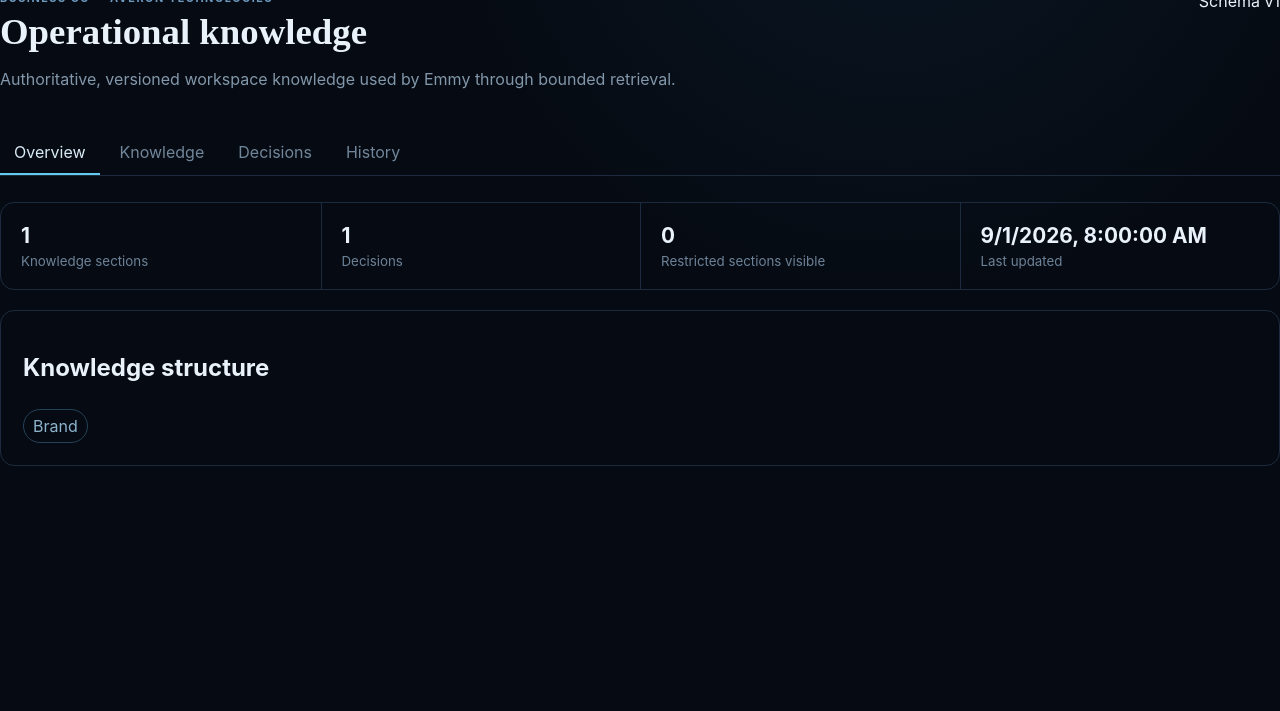
Test case: Business OS Control Center › uses the existing human update endpoint only for authorized managers
The width and height of the screenshot is (1280, 711).
expect the heading "Operational knowledge" is shown: met, box [0,11,367,52]
Click the button "knowledge". click: [162, 153]
box: [106,131,218,175]
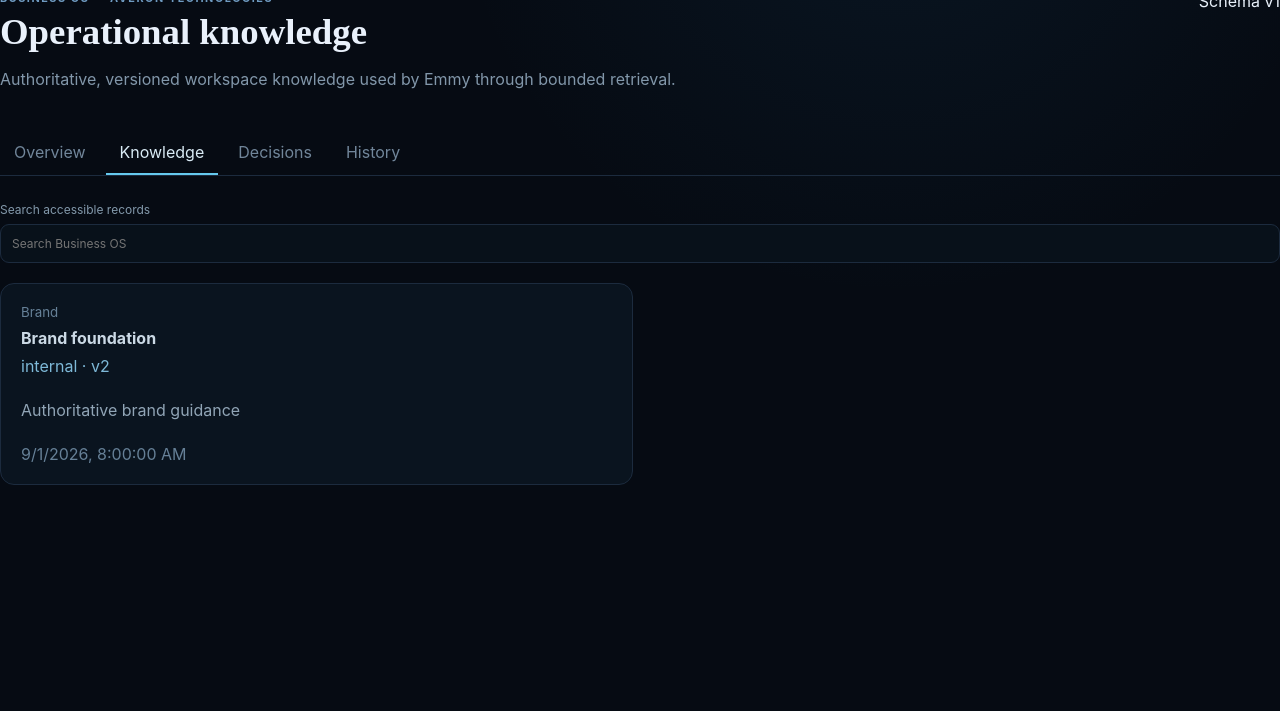
Click the button "Brand foundation". click: [40, 312]
box: [0,283,633,485]
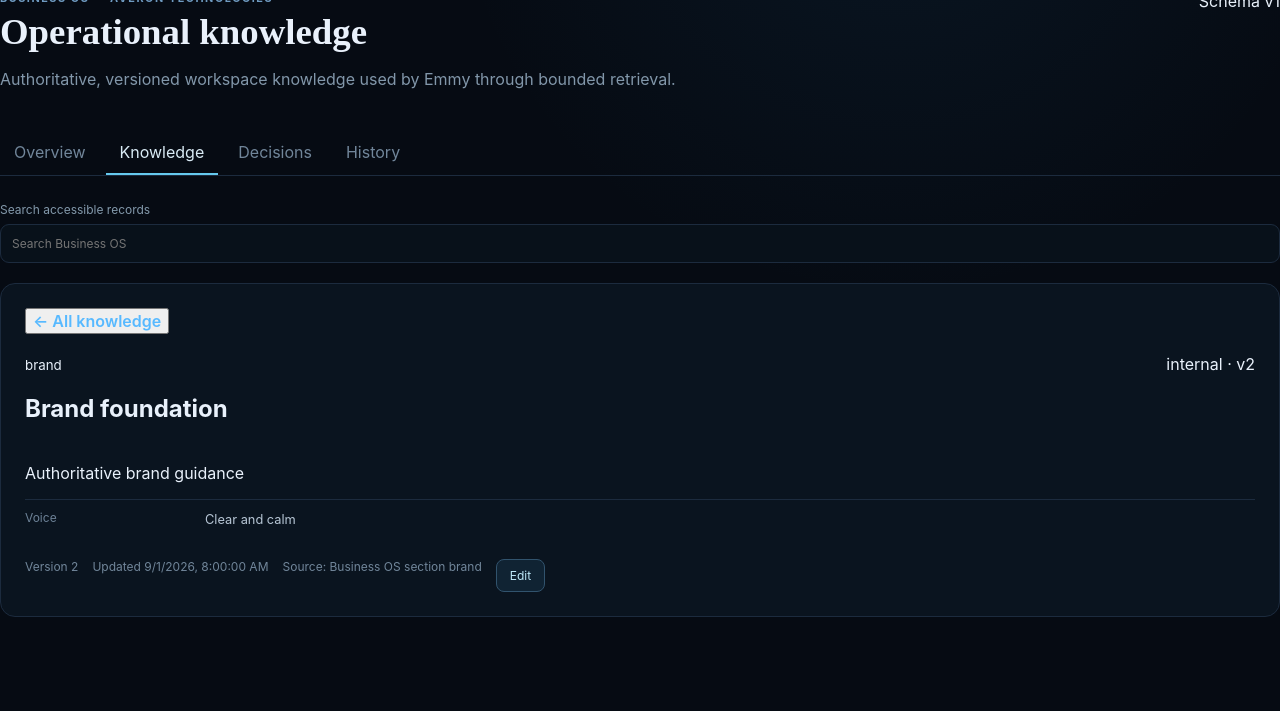
Click the button "Edit". click: [520, 576]
box: [496,559,545,592]
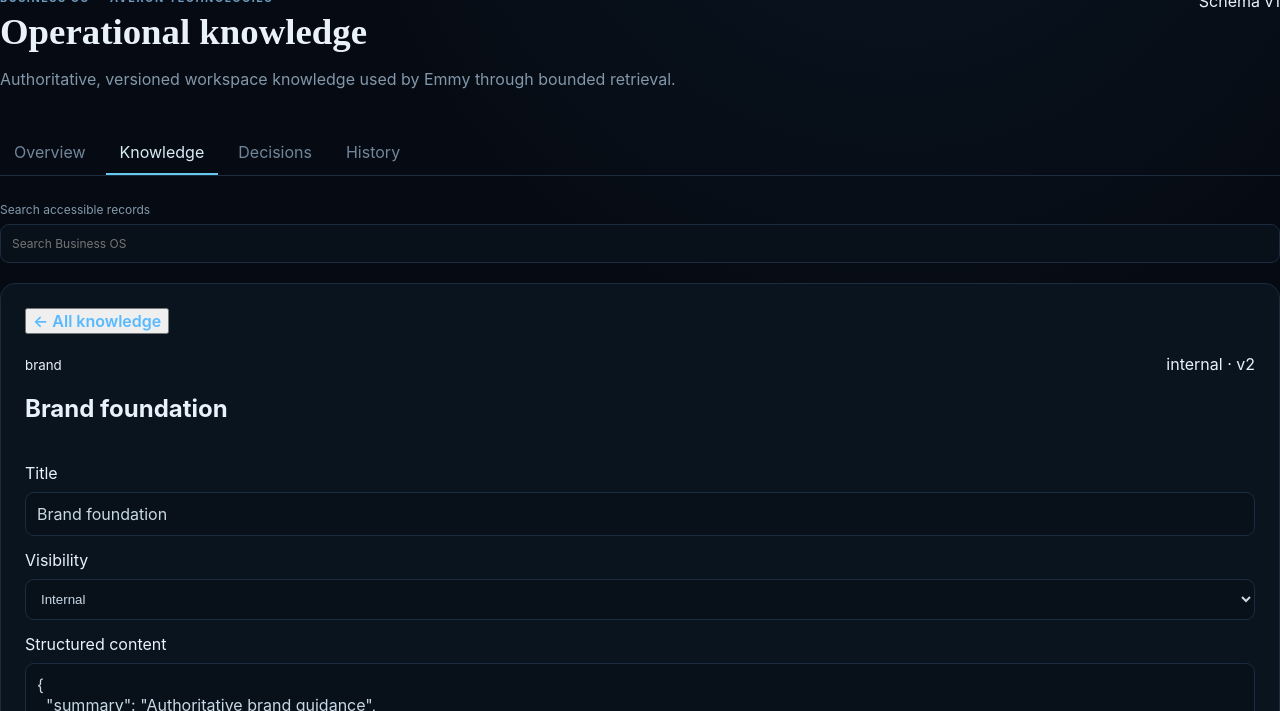
expect the text "Unsaved changes" is not shown: met
Replace the text in the field labelled "Title" with "Updated brand". click: [640, 514]
box: [25,492,1255,536]
(page scrolled)
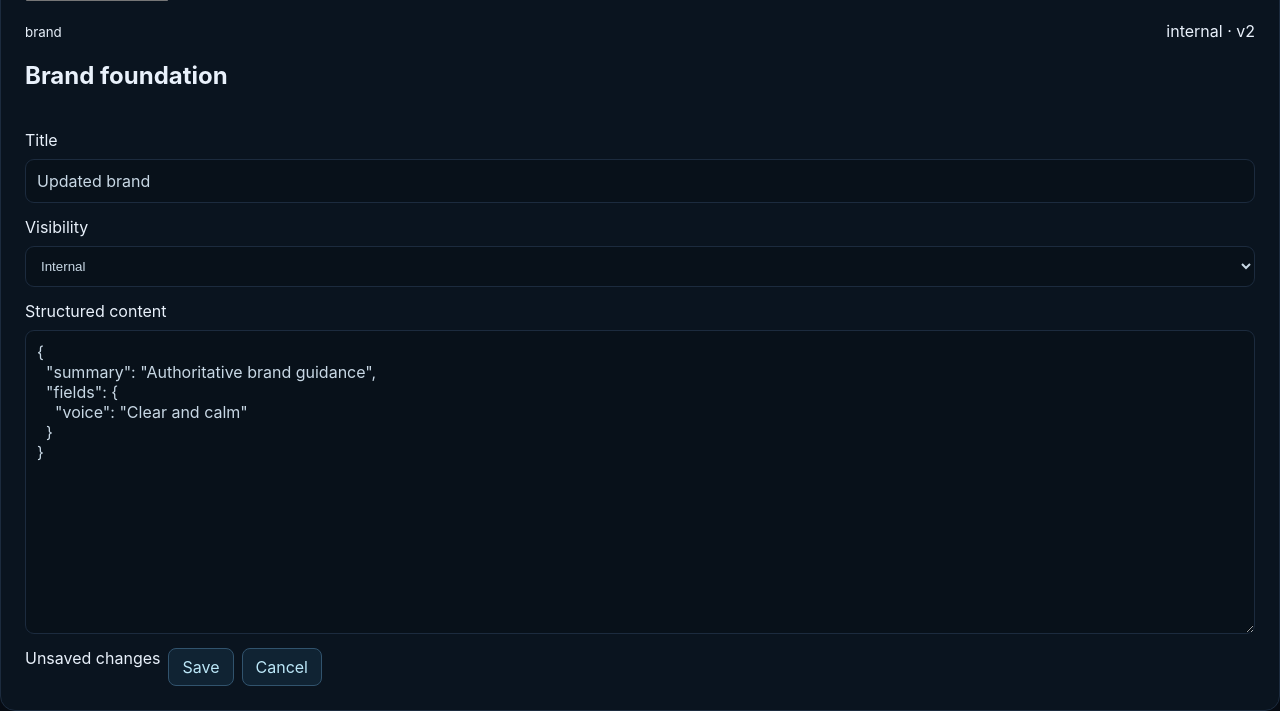
expect the text "Unsaved changes" is shown: met, box [25,648,160,668]
Click the button "Save". click: [201, 667]
box: [168,648,234,686]
(page scrolled)
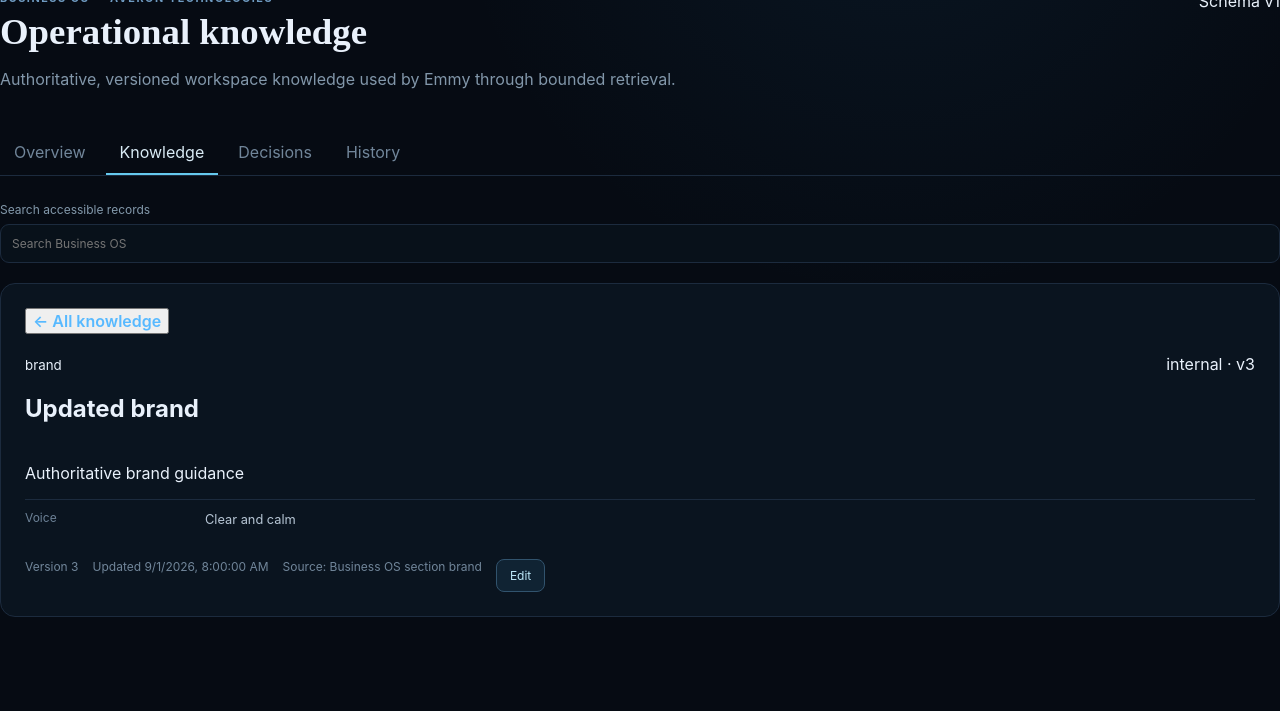
expect the text "Version 3" is shown: met, box [25,559,78,574]
